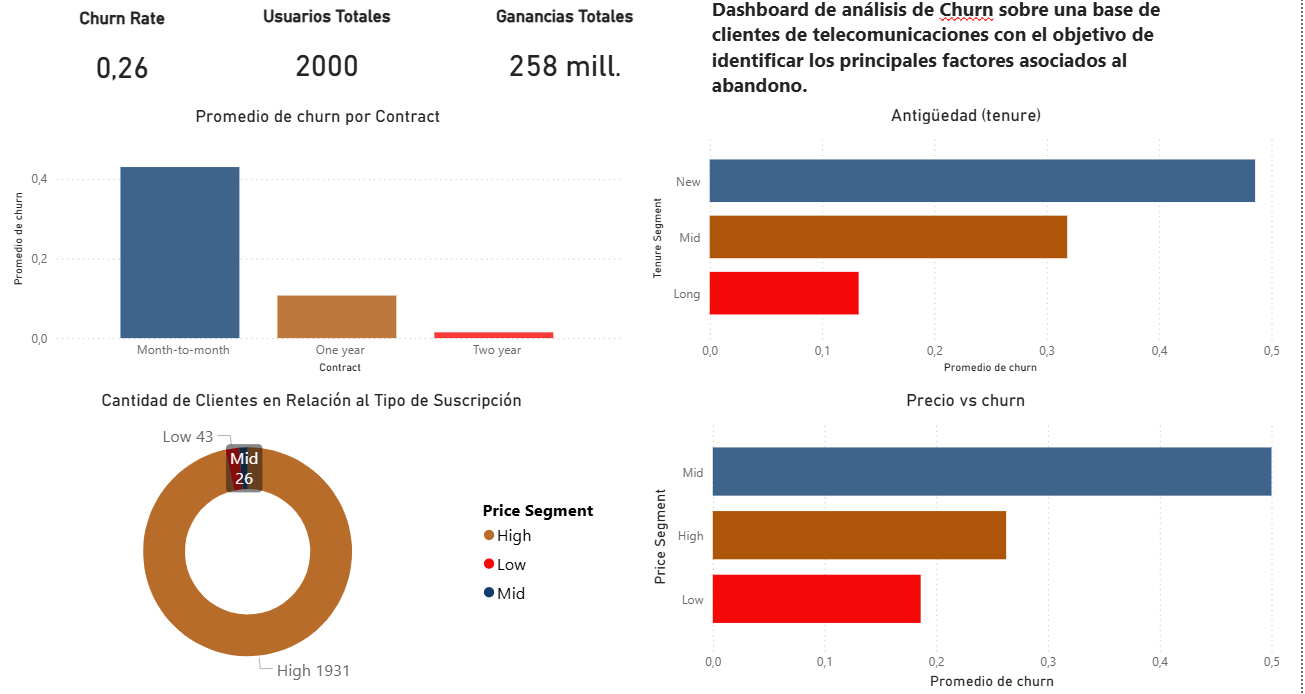

The dashboard page shown, as its layout file describes it:
{"tool":"powerbi","page":{"name":"Dashboard Ejecutivo","canvas":[1280,720],"ordinal":0},"visuals":[{"type":"card","title":"Churn Rate","fields":{"Values":["user_metrics.Churn Rate"]},"box":[15.1,49.4,223.7,94.7],"z":0},{"type":"card","title":"Usuarios Totales","fields":{"Values":["user_metrics.Total Users"]},"box":[207.2,46.7,240.1,96.1],"z":1000},{"type":"card","title":"Ganancias Totales","fields":{"Values":["Sum(user_metrics.TotalCharges)"]},"box":[447.3,46.7,223.7,94.7],"z":2000},{"type":"columnChart","fields":{"Category":["user_metrics.Contract"],"Y":["Avg(user_metrics.churn)"]},"box":[15.1,144.1,606.5,267.6],"z":3000},{"type":"barChart","title":"Antigüedad (tenure)","fields":{"Y":["Avg(user_metrics.churn)"],"Category":["user_metrics.Tenure Segment"]},"box":[639.5,142.7,624.4,269],"z":4000},{"type":"barChart","title":"Precio vs churn","fields":{"Category":["user_metrics.Price Segment"],"Y":["Avg(user_metrics.churn)"]},"box":[639.5,421.3,624.4,299.1],"z":5000},{"type":"donutChart","title":"Cantidad de Clientes en Relación al Tipo de Suscripción","fields":{"Y":["CountNonNull(user_metrics.customerID)"],"Category":["user_metrics.Price Segment"]},"box":[15.1,421.3,594.2,299.1],"z":6000},{"type":"textbox","box":[698.2,31.8,506.3,111.3],"z":7000}]}

Visuals, with their boxes on the page's 1280x720 design canvas (x1, y1, x2, y2). These are canvas units, not pixel positions in the 1305x694 screenshot, which may show the page scaled, cropped or inside an application window:
"Churn Rate" card: (15,49,239,144)
"Usuarios Totales" card: (207,47,447,143)
"Ganancias Totales" card: (447,47,671,141)
columnChart - user_metrics.Contract x Avg(user_metrics.churn): (15,144,622,412)
"Antigüedad (tenure)" barChart: (640,143,1264,412)
"Precio vs churn" barChart: (640,421,1264,720)
"Cantidad de Clientes en Relación al Tipo de Suscripción" donutChart: (15,421,609,720)
textbox: (698,32,1204,143)
